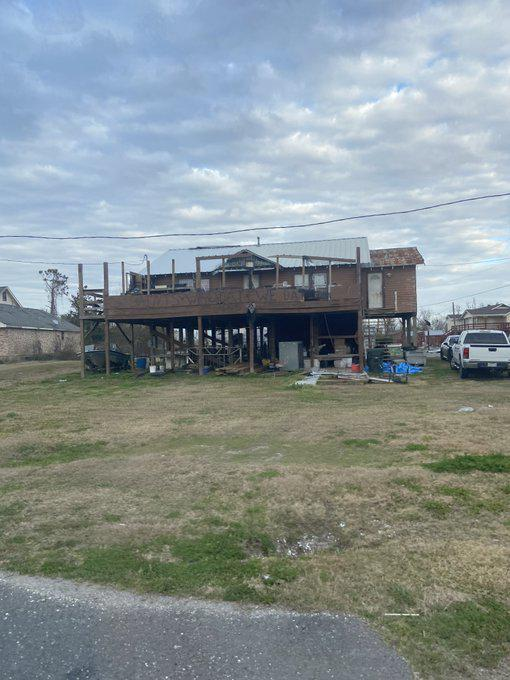destroyed: (74, 229, 425, 397)
